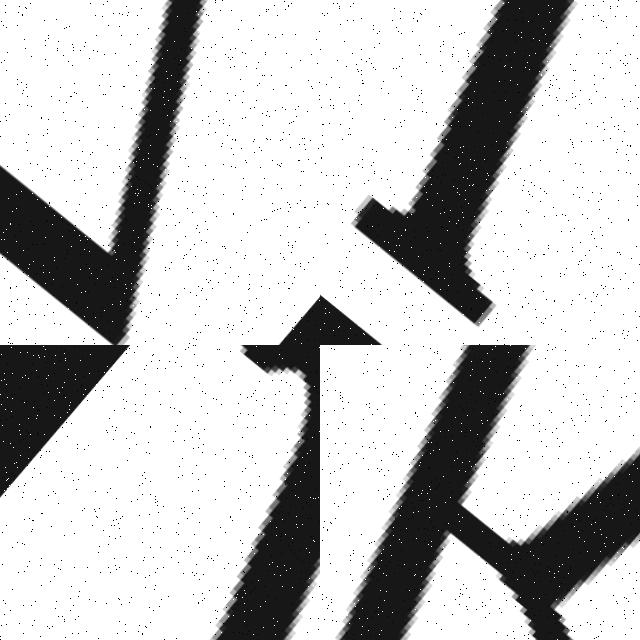7: (0, 0, 320, 345)
J: (320, 0, 640, 341), (0, 345, 320, 640)
R: (320, 345, 640, 640)
